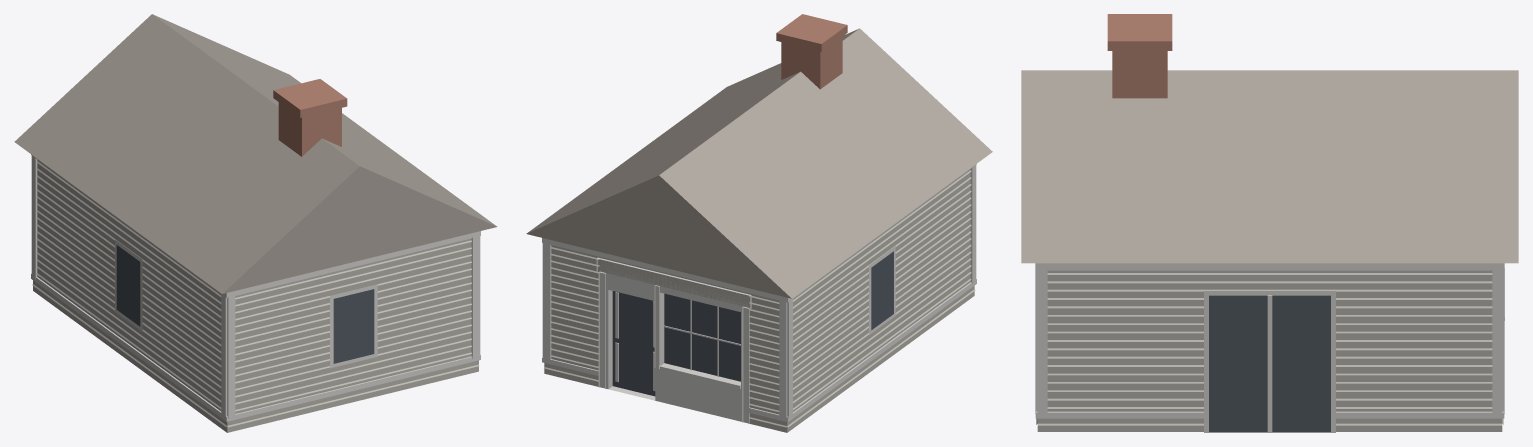
Rendered from recon_1835_south_c1_003__inferred_1835.glb.
3 renders of one model, left to right at view 1: azimuth 30°, elevation 25°; view 2: azimuth 150°, elevation 25°; view 3: azimuth 270°, elevation 25°, orthographic. The views are drawn at different scales.
Visible parts, largest first — view 1: recon_1835_south_c1_003__inferred_1835; view 2: recon_1835_south_c1_003__inferred_1835; view 3: recon_1835_south_c1_003__inferred_1835.
Boxes of the visible parts, x1,y1,x2,y2 form: recon_1835_south_c1_003__inferred_1835: (14,14,497,432); recon_1835_south_c1_003__inferred_1835: (526,14,992,432); recon_1835_south_c1_003__inferred_1835: (1021,14,1518,432).
Size of the model in its own units: 5.76 by 5.53 by 7.53.
